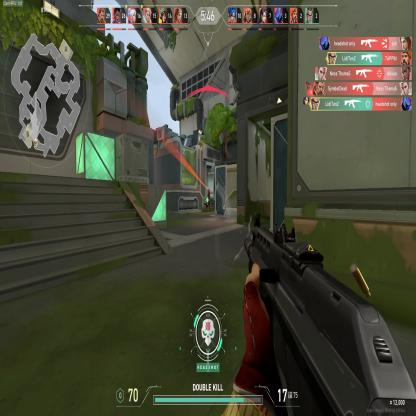enemy: (208, 186, 210, 198)
